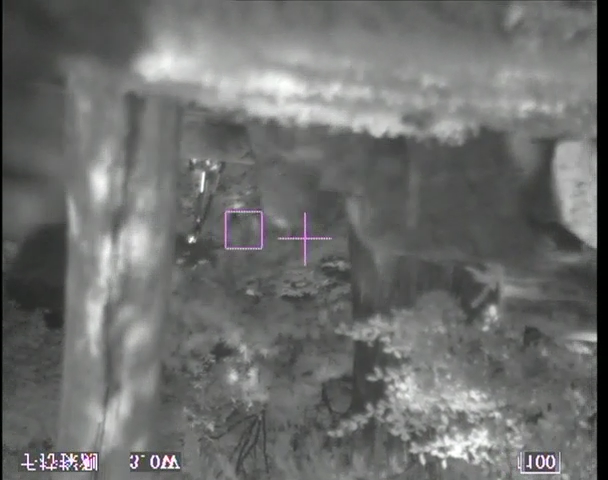my: (187, 234, 197, 244)
